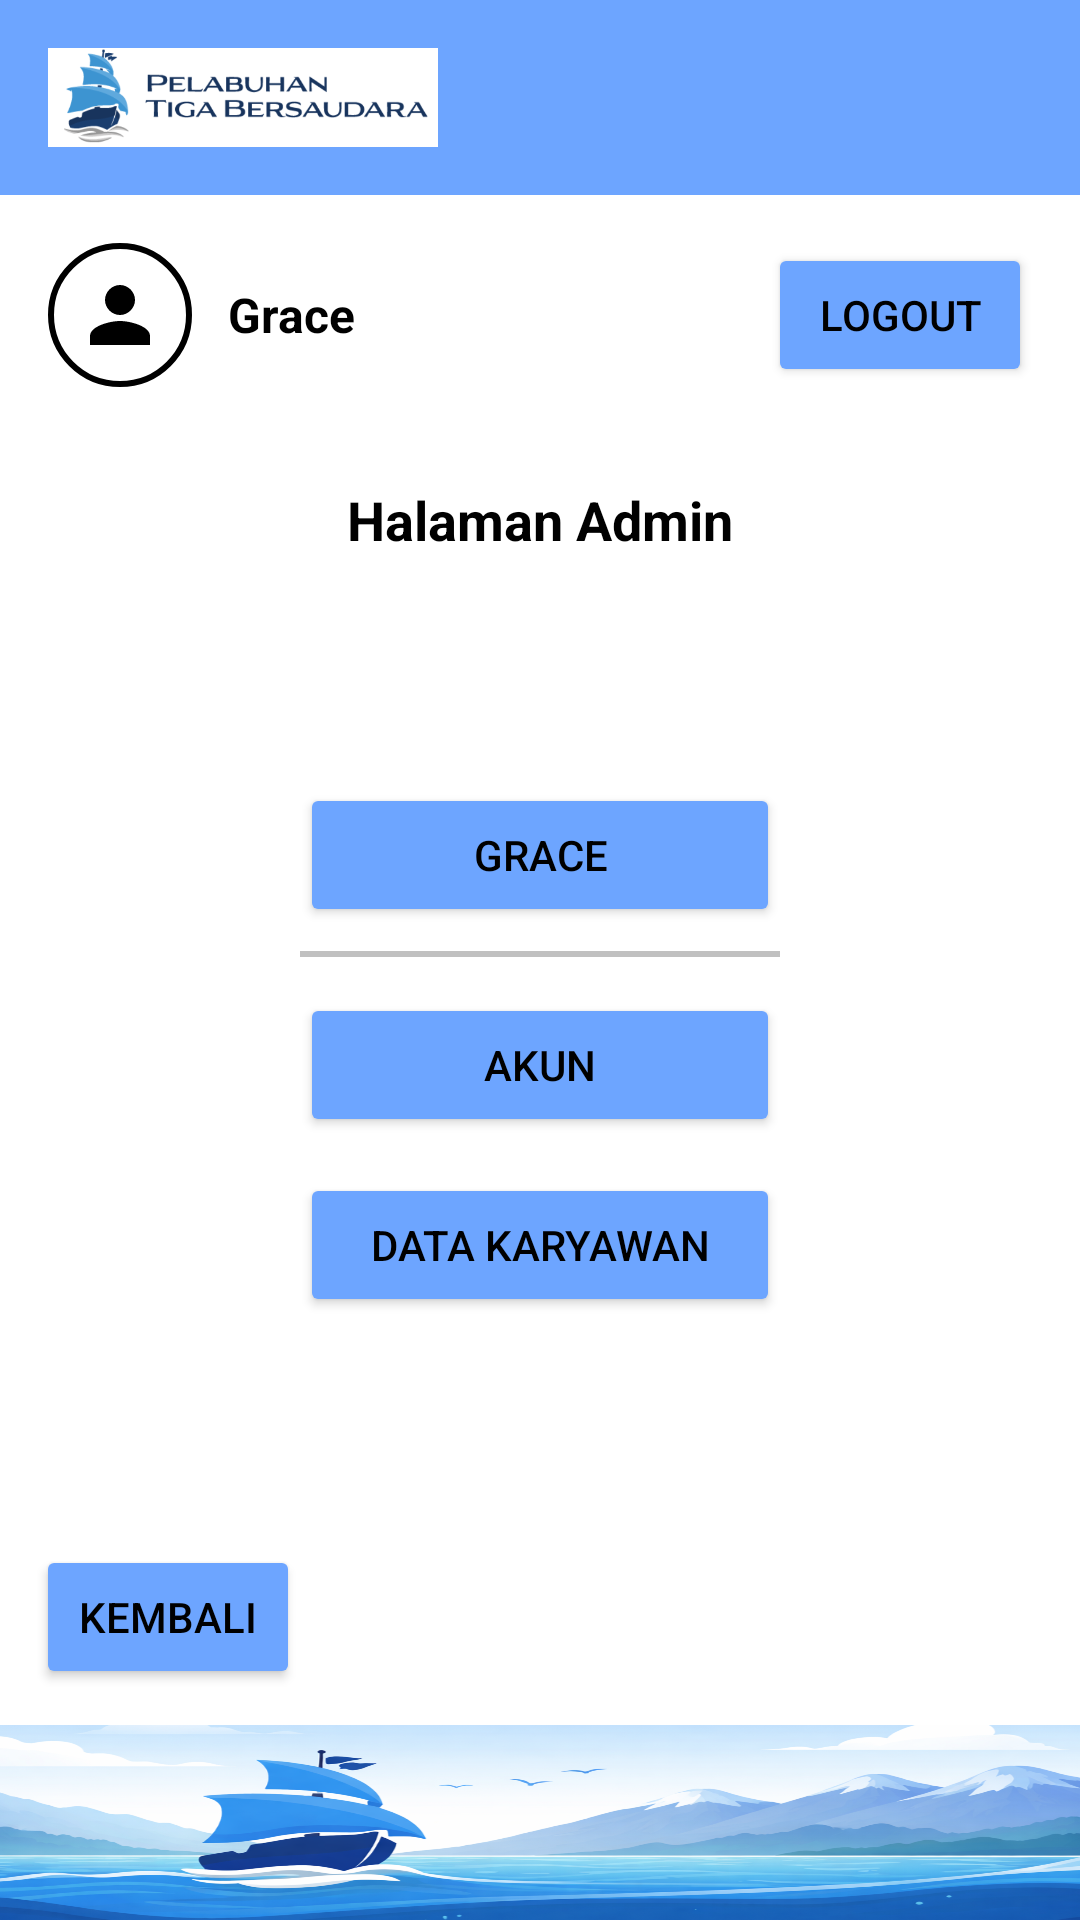

Locate icon controls on the screen. Image size 1080x1920, boxes as (x1, y1, x2, y2).
profile: (48, 243, 192, 387)
